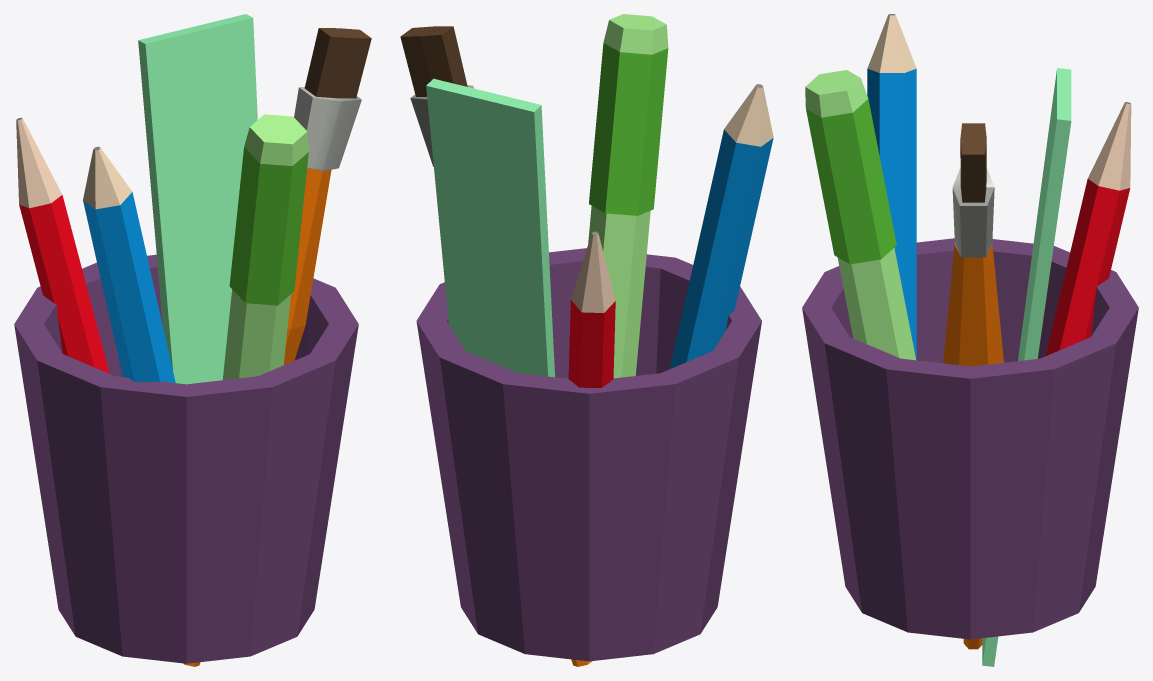
The model's file is kalemlik.fbx.
The picture shows the model from 3 angles, left to right: view 1: azimuth 30°, elevation 25°; view 2: azimuth 150°, elevation 25°; view 3: azimuth 270°, elevation 25°; orthographic projection. The views are drawn at different scales.
Visible parts, largest first — view 1: Cylinder.029; view 2: Cylinder.029; view 3: Cylinder.029.
Part boxes in pixels (bbox=[...]): Cylinder.029: bbox=[14, 14, 371, 666]; Cylinder.029: bbox=[400, 14, 773, 666]; Cylinder.029: bbox=[802, 14, 1138, 666].
Size of the model in its own units: 47.65 by 43.08 by 82.77.
